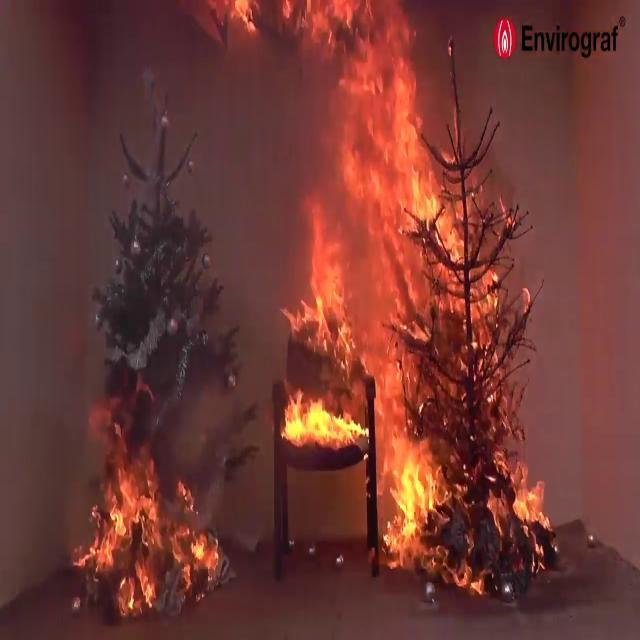Fire: (314, 0, 519, 380), (68, 436, 238, 614), (275, 172, 363, 448), (376, 409, 446, 557), (482, 442, 556, 557)
Smoke: (0, 2, 274, 386)
